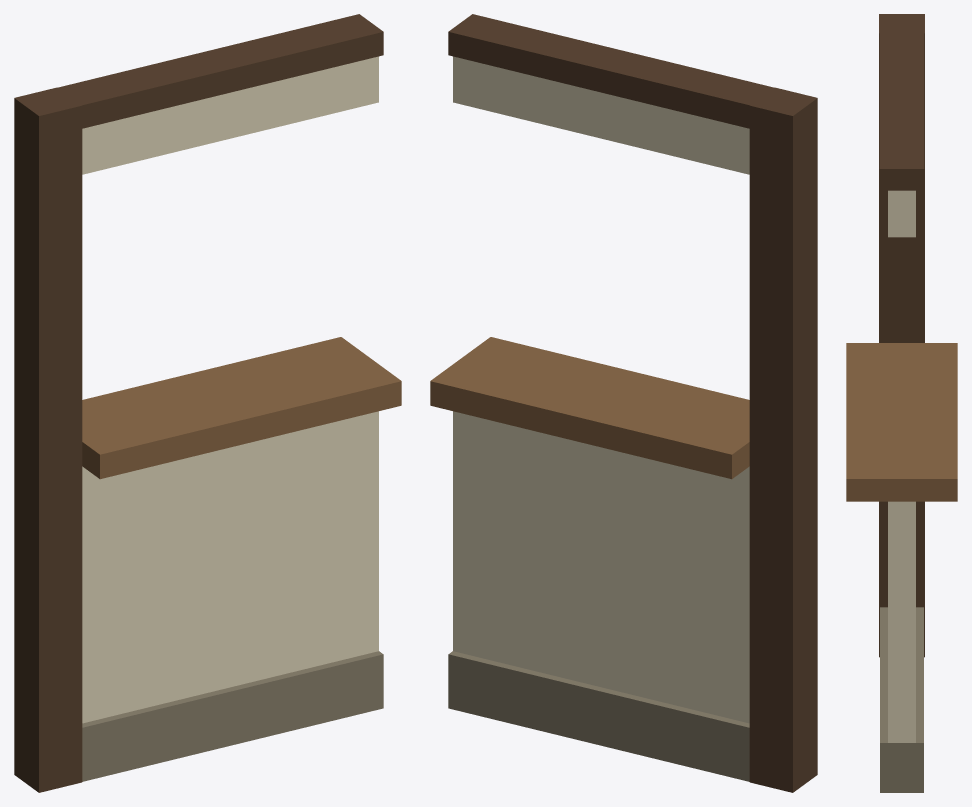
Rendered from counter_hatch.glb.
The picture shows the model from 3 angles, left to right: view 1: azimuth 30°, elevation 25°; view 2: azimuth 150°, elevation 25°; view 3: azimuth 270°, elevation 25°; orthographic projection. The views are drawn at different scales.
Visible parts, largest first — view 1: Counter hatch; view 2: Counter hatch; view 3: Counter hatch.
Boxes of the visible parts, left/top/right/bottom form: Counter hatch: left=14, top=14, right=401, bottom=792; Counter hatch: left=430, top=14, right=817, bottom=792; Counter hatch: left=846, top=14, right=957, bottom=792.
Size of the model in its own units: 1 by 1.88 by 0.304.
